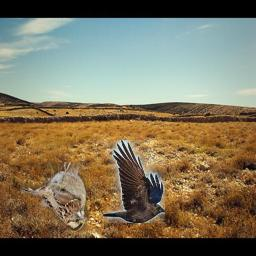Crow: (103, 140, 165, 223)
Sparrow: (21, 162, 89, 231)
